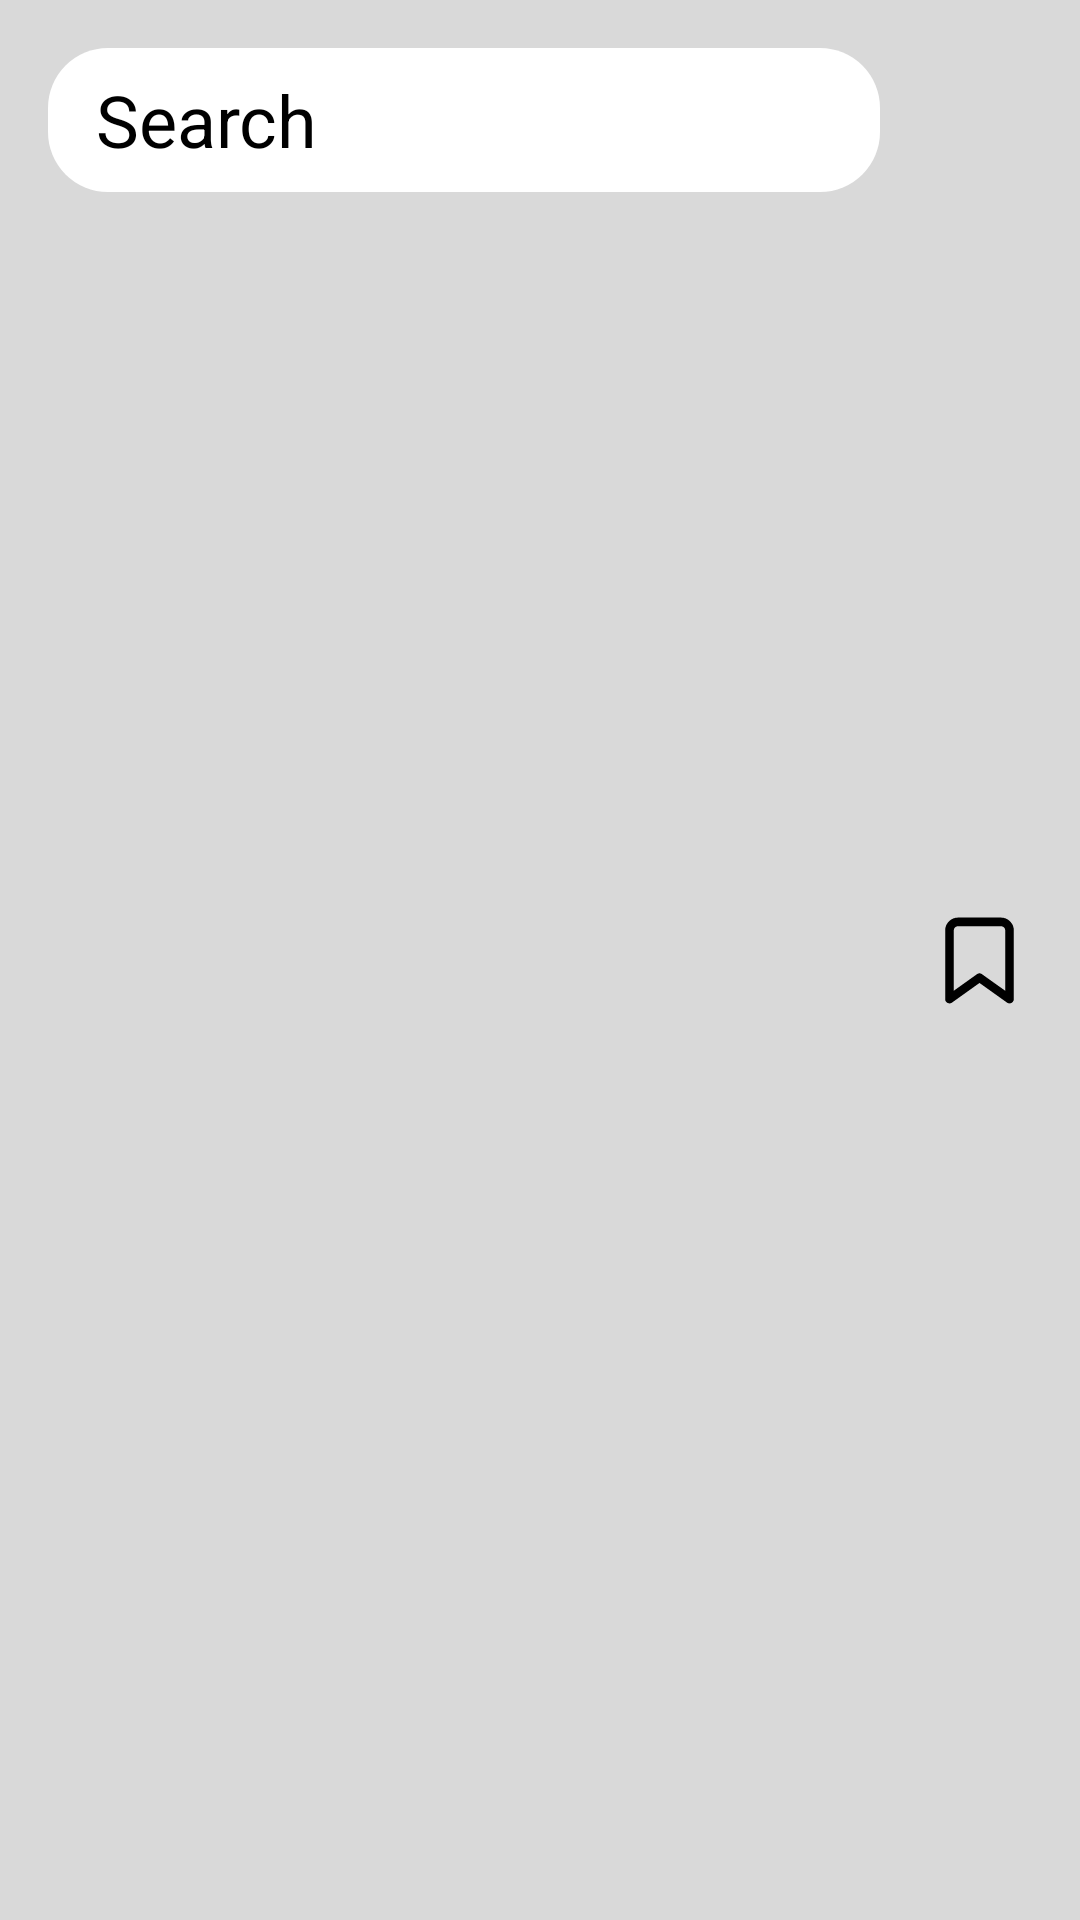

Point at icon controls on the screen. Image size 1080x1920, points as (x,y).
favourite: (979,960)
